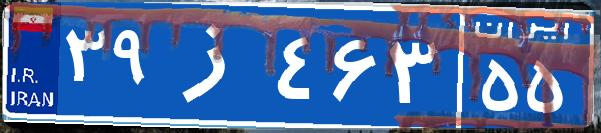3: (385, 28, 445, 110), (57, 26, 110, 107)
4: (273, 28, 330, 110)
5: (475, 38, 525, 113), (525, 38, 570, 115)
6: (330, 28, 385, 110)
9: (110, 28, 158, 105)
ز: (158, 15, 273, 115)
